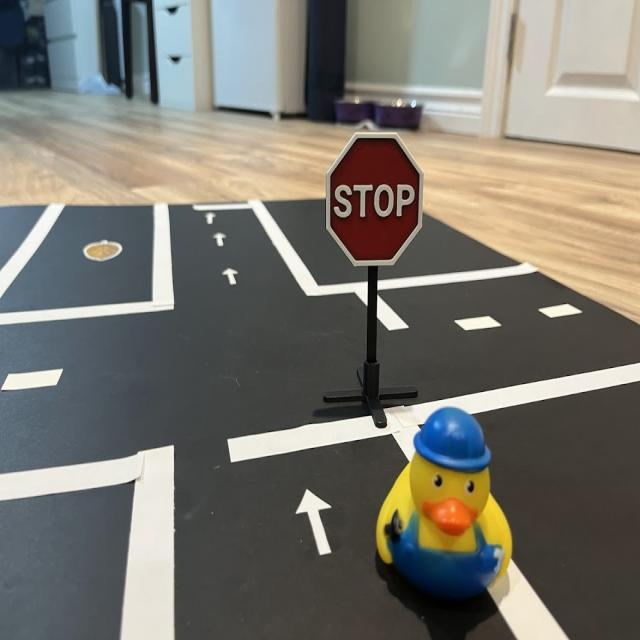duck_specialty: (374, 405, 514, 603)
road_oneway: (295, 487, 338, 560), (221, 265, 243, 292), (214, 230, 229, 250), (205, 210, 220, 229)
sign_stop: (329, 136, 426, 265)
